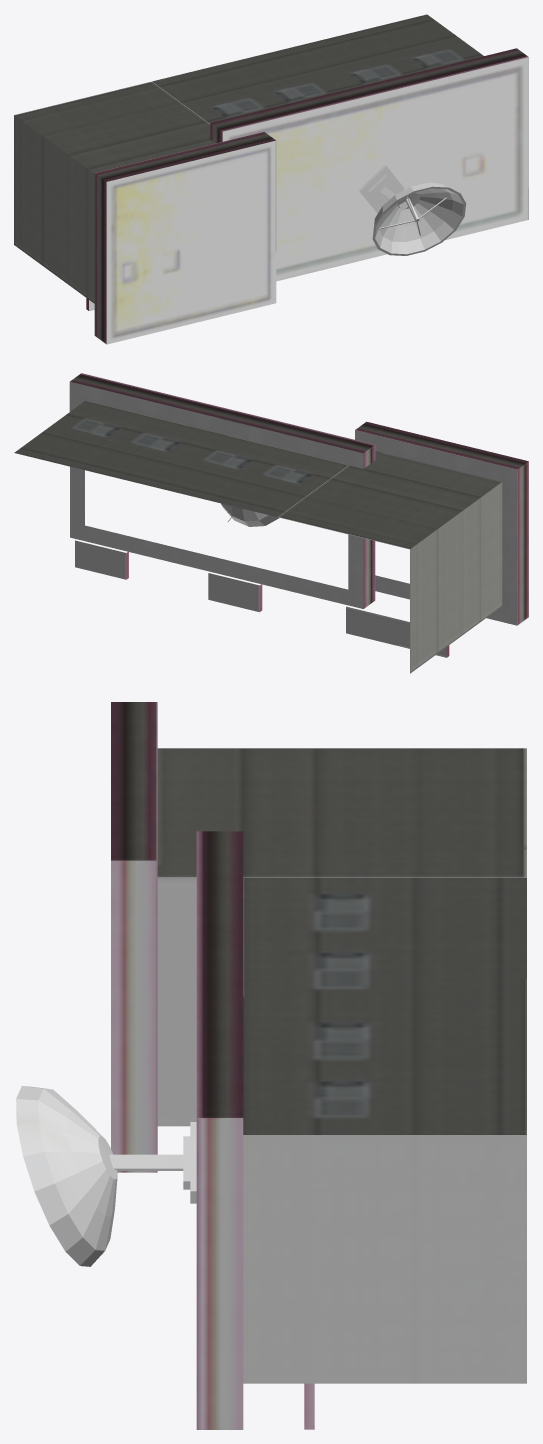
Rendered from zywkzx.glb.
3 views of the same model, one above another, from view 1: azimuth 30°, elevation 25°; view 2: azimuth 150°, elevation 25°; view 3: azimuth 270°, elevation 25° (orthographic). The views are drawn at different scales.
Visible parts, largest first — view 1: Box02_; view 2: Box02_; view 3: Box02_.
Boxes of the visible parts, x1,y1,x2,y2 form: Box02_: [14, 14, 528, 344]; Box02_: [14, 373, 528, 673]; Box02_: [16, 702, 526, 1429].
Size of the model in its own units: 15.98 by 5.99 by 8.3.
Materials: 1 (1 with a texture image).
